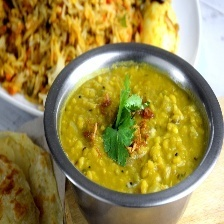dal: (58, 67, 207, 195)
